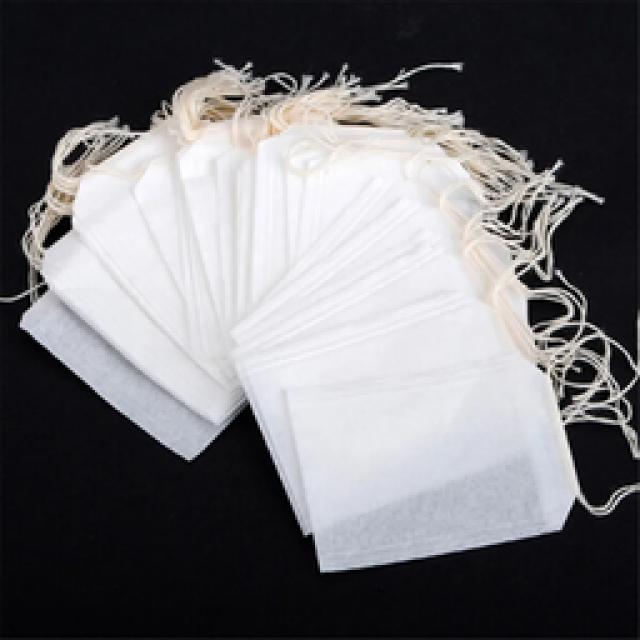tea-bags: (22, 60, 592, 570)
